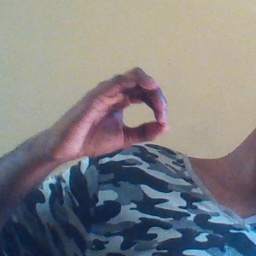O: (59, 64, 172, 166)
